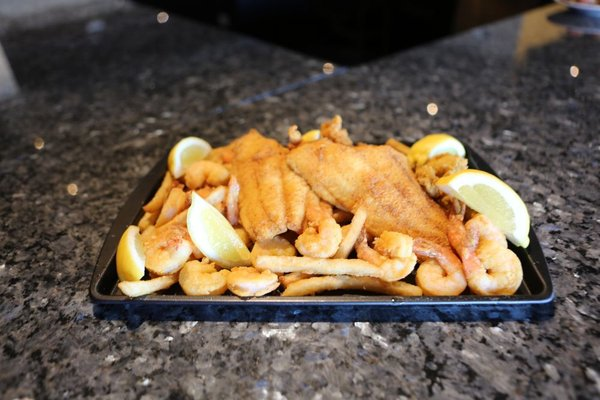curry: (2, 3, 575, 400)
